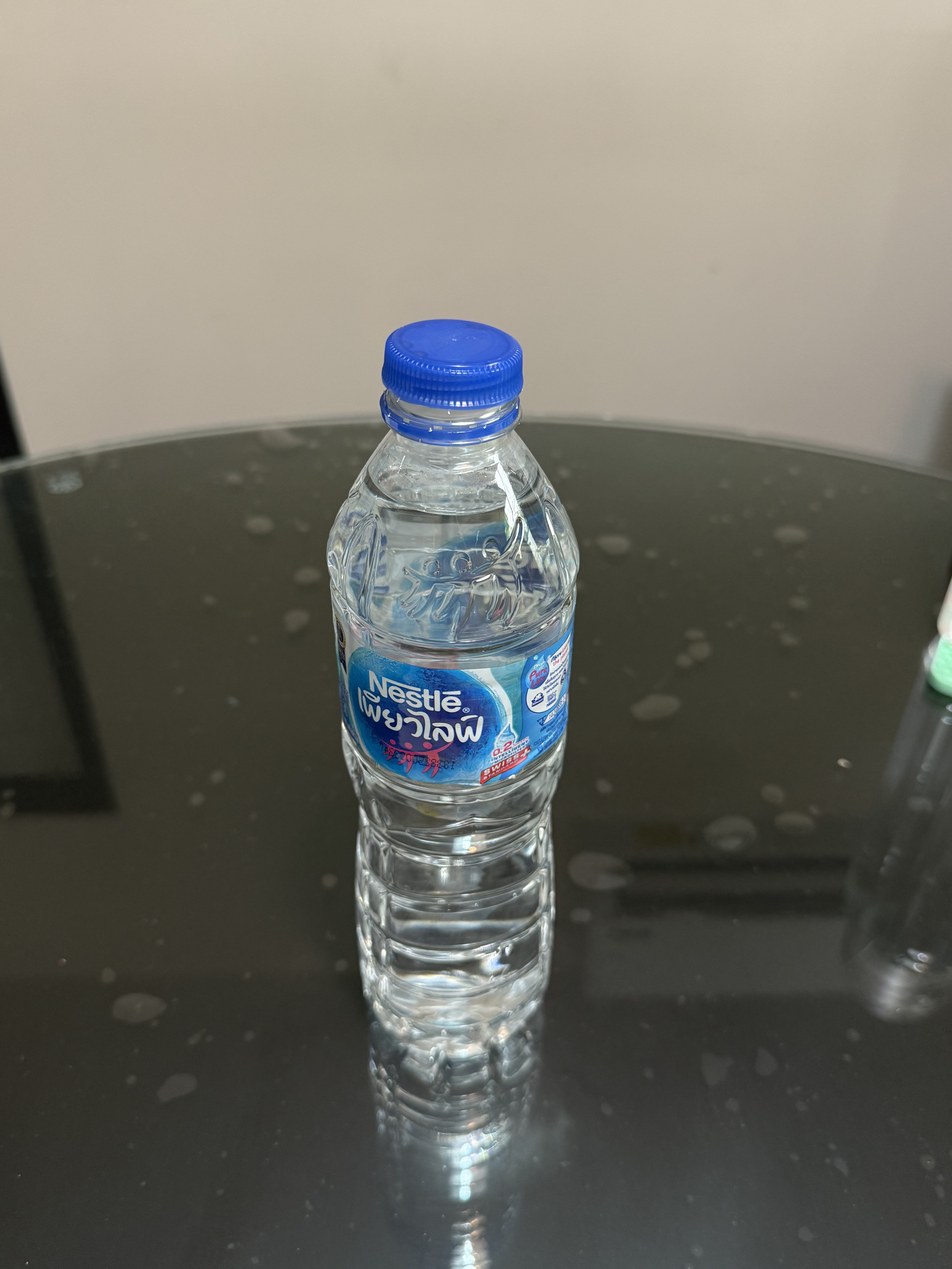half_cap: (375, 313, 527, 441)
